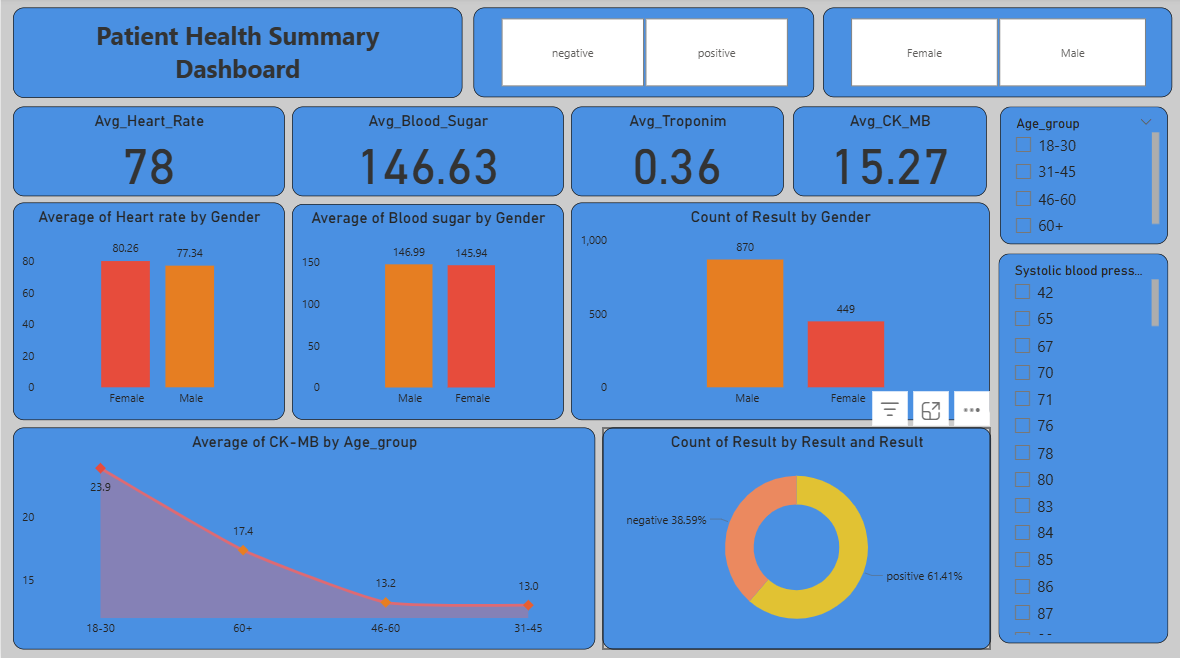

The page's visual inventory and layout, read from the dashboard file:
{"tool":"powerbi","page":{"name":"Page 1","canvas":[1280,720],"ordinal":0},"visuals":[{"type":"card","title":"Avg_Heart_Rate","fields":{"Values":["Medicaldataset.AvgHeart_rate"]},"box":[13,118.7,294.4,97.6],"z":0},{"type":"card","title":"Avg_Blood_Sugar","fields":{"Values":["Medicaldataset.Avg_Bloodsugar"]},"box":[315.5,118.7,294.4,97.6],"z":1000},{"type":"card","title":"Avg_CK_MB","fields":{"Values":["Medicaldataset.Avg_CK-MB"]},"box":[858.8,118.7,209.8,97.6],"z":2000},{"type":"card","title":"Avg_Troponim","fields":{"Values":["Medicaldataset.Avg_Troponim"]},"box":[618.1,118.7,231,97.6],"z":3000},{"type":"textbox","box":[13.2,11.3,487.6,98.3],"z":5000},{"type":"textbox","box":[77.5,11.3,357.2,98.3],"z":5001},{"type":"columnChart","fields":{"Category":["Medicaldataset.Gender"],"Y":["Avg(Medicaldataset.Heart rate)"]},"box":[13,222.8,294.4,235.8],"z":5002},{"type":"columnChart","fields":{"Category":["Medicaldataset.Gender"],"Y":["Avg(Medicaldataset.Blood sugar)"]},"box":[315.5,224.5,294.4,234.2],"z":5003},{"type":"columnChart","fields":{"Category":["Medicaldataset.Gender"],"Y":["CountNonNull(Medicaldataset.Result)"]},"box":[618.1,222.8,453.8,235.8],"z":5004},{"type":"areaChart","fields":{"Category":["Medicaldataset.Age_group"],"Y":["Avg(Medicaldataset.CK-MB)"]},"box":[13,466.8,631.1,240.7],"z":5005},{"type":"donutChart","fields":{"Category":["Medicaldataset.Result"],"Series":["Medicaldataset.Result"],"Y":["CountNonNull(Medicaldataset.Result)"]},"box":[652.2,466.8,421.3,240.7],"z":5006},{"type":"slicer","fields":{"Values":["Medicaldataset.Result"]},"box":[512.4,11.4,369.2,97.6],"z":5010},{"type":"slicer","fields":{"Values":["Medicaldataset.Systolic blood pressure"]},"box":[1081.7,278.1,183.8,422.9],"z":5011},{"type":"slicer","fields":{"Values":["Medicaldataset.Age_group"]},"box":[1083.3,118.7,182.2,149.6],"z":5012},{"type":"slicer","fields":{"Values":["Medicaldataset.Gender"]},"box":[891.3,11.4,379,97.6],"z":5013}]}

Visuals, with their boxes in screenshot pixels (x1, y1, x2, y2), scaled from the page's 1280x720 canvas onto the 1180x658 screenshot:
"Avg_Heart_Rate" card: bbox=[12, 108, 283, 198]
"Avg_Blood_Sugar" card: bbox=[291, 108, 562, 198]
"Avg_CK_MB" card: bbox=[792, 108, 985, 198]
"Avg_Troponim" card: bbox=[570, 108, 783, 198]
textbox: bbox=[12, 10, 462, 100]
textbox: bbox=[71, 10, 401, 100]
columnChart - Medicaldataset.Gender x Avg(Medicaldataset.Heart rate): bbox=[12, 204, 283, 419]
columnChart - Medicaldataset.Gender x Avg(Medicaldataset.Blood sugar): bbox=[291, 205, 562, 419]
columnChart - Medicaldataset.Gender x CountNonNull(Medicaldataset.Result): bbox=[570, 204, 988, 419]
areaChart - Medicaldataset.Age_group x Avg(Medicaldataset.CK-MB): bbox=[12, 427, 594, 647]
donutChart - Medicaldataset.Result x Medicaldataset.Result: bbox=[601, 427, 990, 647]
slicer - Medicaldataset.Result: bbox=[472, 10, 813, 100]
slicer - Medicaldataset.Systolic blood pressure: bbox=[997, 254, 1167, 641]
slicer - Medicaldataset.Age_group: bbox=[999, 108, 1167, 245]
slicer - Medicaldataset.Gender: bbox=[822, 10, 1171, 100]
